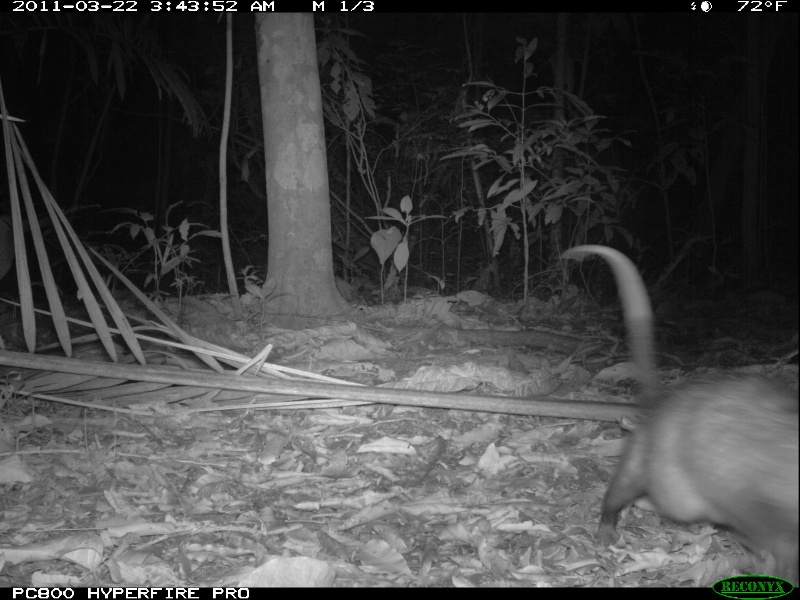opossum: (560, 241, 800, 570)
